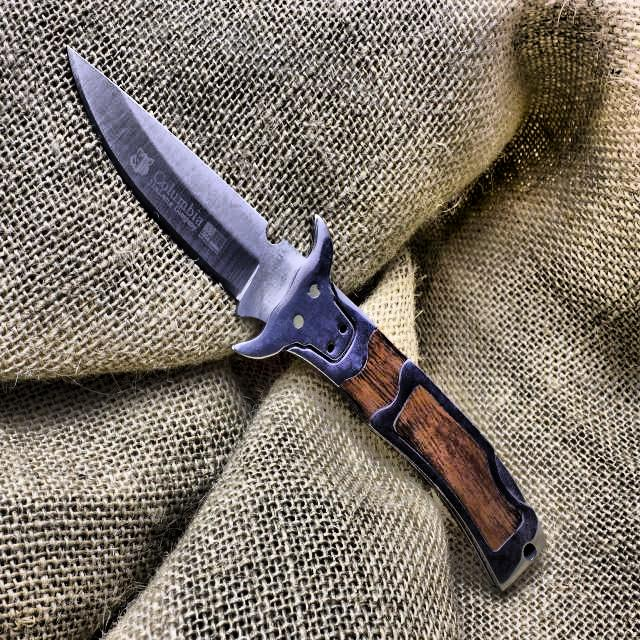knife: (65, 36, 549, 594)
